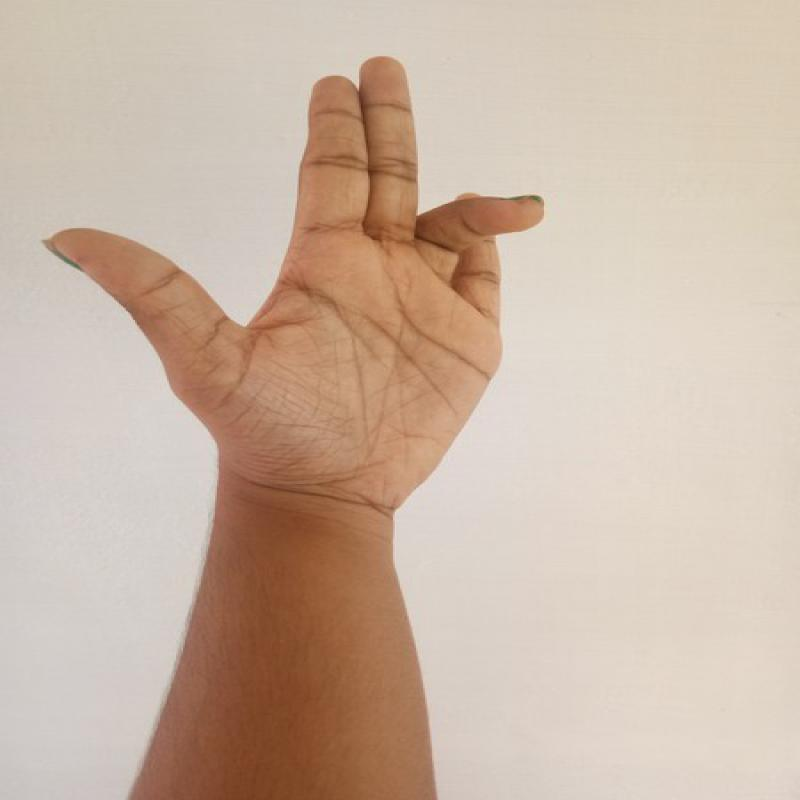Pathaaka: (33, 10, 557, 537)
